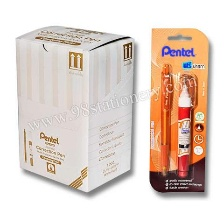book: (11, 22, 138, 195), (148, 25, 211, 194)
correction_fluid: (176, 72, 198, 178)
